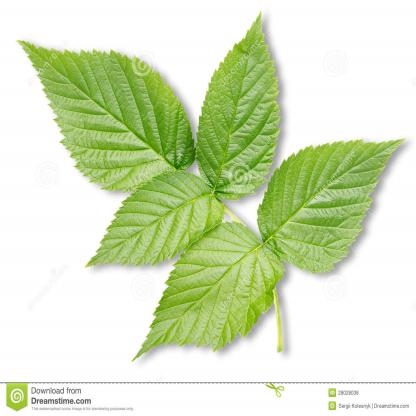raspberry leaf: (14, 35, 196, 192), (132, 216, 292, 362), (254, 136, 408, 270), (190, 8, 282, 199), (80, 168, 229, 272)
